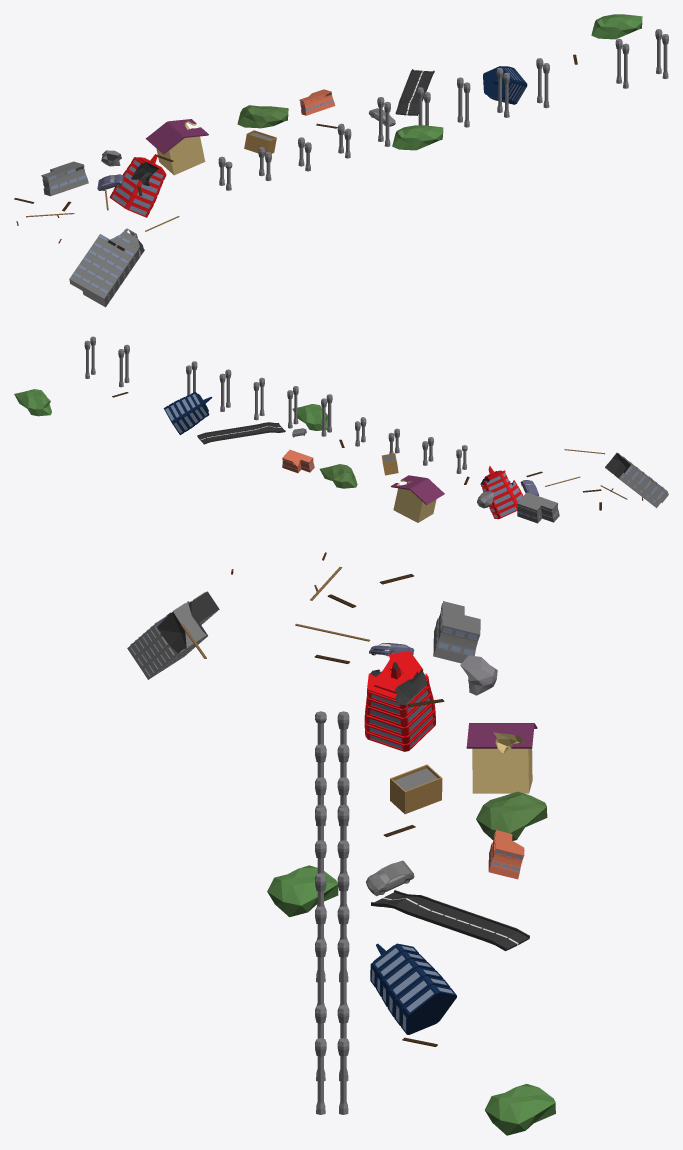
Rendered from Map2_물에잠긴도시_배경요소.fbx.
3 views of the same model, one above another, from view 1: azimuth 30°, elevation 25°; view 2: azimuth 150°, elevation 25°; view 3: azimuth 270°, elevation 25° (orthographic). The views are drawn at different scales.
Visible parts, largest first — view 1: 3_물도시_배경요소_Bridge_기둥_전체, 3_물도시_배경요소_부서진 건물, 3_물도시_배경요소_부서진 건물.005, 3_물도시_배경요소_부서진 건물.004, 3_물도시_배경요소_부서진 건물.001, 3_물도시_배경요소_부서진 건물.003, 3_물도시_배경요소_Island.003, 3_물도시_배경요소_Island.002, 3_물도시_배경요소_Road.007, 3_물도시_배경요소_Island.001, 3_물도시_배경요소_부서진 건물.002, 3_물도시_배경요소_부서진 건물.006; view 2: 3_물도시_배경요소_Bridge_기둥_전체, 3_물도시_배경요소_부서진 건물.005, 3_물도시_배경요소_부서진 건물, 3_물도시_배경요소_부서진 건물.004, 3_물도시_배경요소_부서진 건물.003, 3_물도시_배경요소_부서진 건물.001, 3_물도시_배경요소_Road.007, 3_물도시_배경요소_Island.003, 3_물도시_배경요소_Island.001, 3_물도시_배경요소_Island.002, 3_물도시_배경요소_부서진 건물.002, 3_물도시_배경요소_부서진 건물.006; view 3: 3_물도시_배경요소_Bridge_기둥_전체, 3_물도시_배경요소_부서진 건물.004, 3_물도시_배경요소_부서진 건물.003, 3_물도시_배경요소_부서진 건물.005, 3_물도시_배경요소_부서진 건물, 3_물도시_배경요소_Road.007, 3_물도시_배경요소_Island.003, 3_물도시_배경요소_Island.001, 3_물도시_배경요소_부서진 건물.001, 3_물도시_배경요소_Island.002, 3_물도시_배경요소_부서진 건물.006, 3_물도시_배경요소_부서진 건물.002 (+2 smaller).
Part boxes in pixels (x1=…): 3_물도시_배경요소_Bridge_기둥_전체: x1=218, y1=29, x2=668, y2=190; 3_물도시_배경요소_부서진 건물: x1=69, y1=228, x2=144, y2=307; 3_물도시_배경요소_부서진 건물.005: x1=145, y1=119, x2=208, y2=175; 3_물도시_배경요소_부서진 건물.004: x1=109, y1=154, x2=166, y2=217; 3_물도시_배경요소_부서진 건물.001: x1=41, y1=161, x2=88, y2=196; 3_물도시_배경요소_부서진 건물.003: x1=483, y1=66, x2=527, y2=104; 3_물도시_배경요소_Island.003: x1=591, y1=14, x2=642, y2=39; 3_물도시_배경요소_Island.002: x1=392, y1=125, x2=443, y2=150; 3_물도시_배경요소_Road.007: x1=395, y1=69, x2=434, y2=115; 3_물도시_배경요소_Island.001: x1=237, y1=105, x2=288, y2=128; 3_물도시_배경요소_부서진 건물.002: x1=299, y1=89, x2=335, y2=115; 3_물도시_배경요소_부서진 건물.006: x1=244, y1=130, x2=276, y2=155; 3_물도시_배경요소_Bridge_기둥_전체: x1=84, y1=336, x2=467, y2=473; 3_물도시_배경요소_부서진 건물.005: x1=391, y1=475, x2=444, y2=522; 3_물도시_배경요소_부서진 건물: x1=605, y1=452, x2=668, y2=507; 3_물도시_배경요소_부서진 건물.004: x1=480, y1=466, x2=523, y2=519; 3_물도시_배경요소_부서진 건물.003: x1=163, y1=392, x2=212, y2=434; 3_물도시_배경요소_부서진 건물.001: x1=517, y1=492, x2=559, y2=523; 3_물도시_배경요소_Road.007: x1=197, y1=422, x2=285, y2=444; 3_물도시_배경요소_Island.003: x1=14, y1=389, x2=51, y2=416; 3_물도시_배경요소_Island.001: x1=319, y1=464, x2=357, y2=488; 3_물도시_배경요소_Island.002: x1=292, y1=404, x2=327, y2=430; 3_물도시_배경요소_부서진 건물.002: x1=282, y1=449, x2=314, y2=473; 3_물도시_배경요소_부서진 건물.006: x1=381, y1=453, x2=398, y2=475; 3_물도시_배경요소_Bridge_기둥_전체: x1=315, y1=711, x2=349, y2=1114; 3_물도시_배경요소_부서진 건물.004: x1=364, y1=651, x2=435, y2=751; 3_물도시_배경요소_부서진 건물.003: x1=370, y1=943, x2=456, y2=1034; 3_물도시_배경요소_부서진 건물.005: x1=466, y1=723, x2=537, y2=793; 3_물도시_배경요소_부서진 건물: x1=127, y1=591, x2=219, y2=679; 3_물도시_배경요소_Road.007: x1=371, y1=890, x2=529, y2=951; 3_물도시_배경요소_Island.003: x1=485, y1=1084, x2=555, y2=1135; 3_물도시_배경요소_Island.001: x1=476, y1=791, x2=547, y2=840; 3_물도시_배경요소_부서진 건물.001: x1=433, y1=601, x2=480, y2=663; 3_물도시_배경요소_Island.002: x1=267, y1=865, x2=338, y2=917; 3_물도시_배경요소_부서진 건물.006: x1=390, y1=764, x2=442, y2=814; 3_물도시_배경요소_부서진 건물.002: x1=488, y1=830, x2=524, y2=879.
Bounding box in the file's own units: 16489 × 51577 × 6228.
